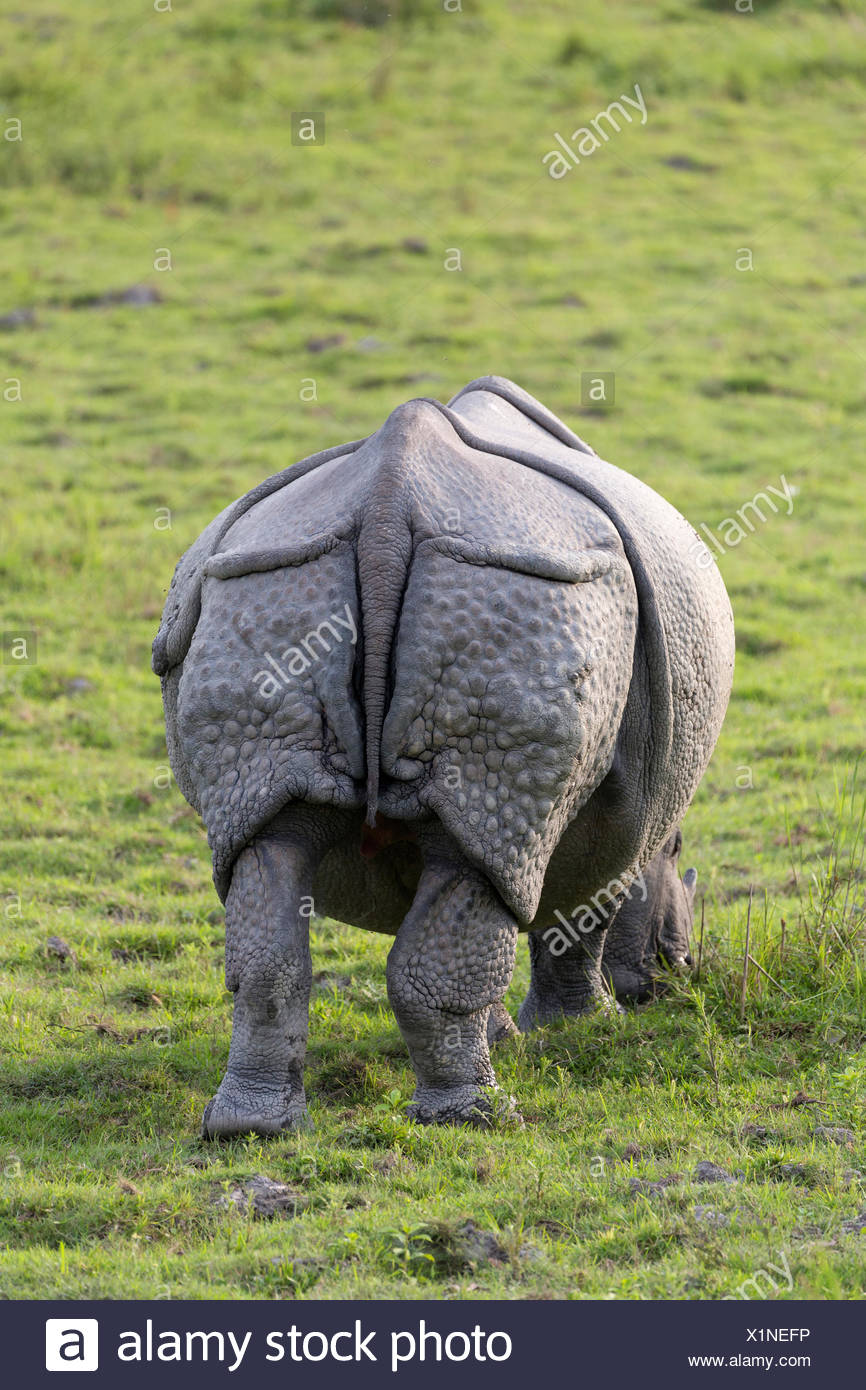rhinoceros: (157, 358, 722, 1136)
